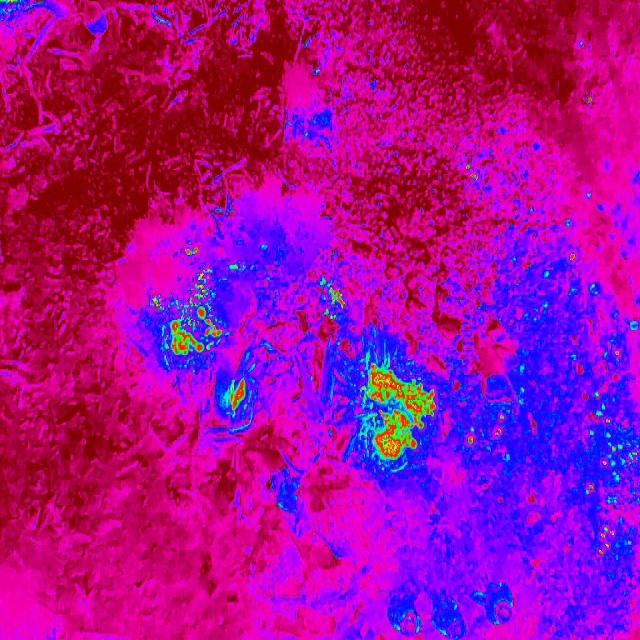fire: (562, 321, 640, 569), (359, 362, 436, 462), (156, 266, 226, 356), (461, 410, 509, 450), (318, 281, 348, 317), (224, 375, 250, 413), (463, 160, 485, 190), (561, 244, 582, 268), (182, 240, 202, 260)
